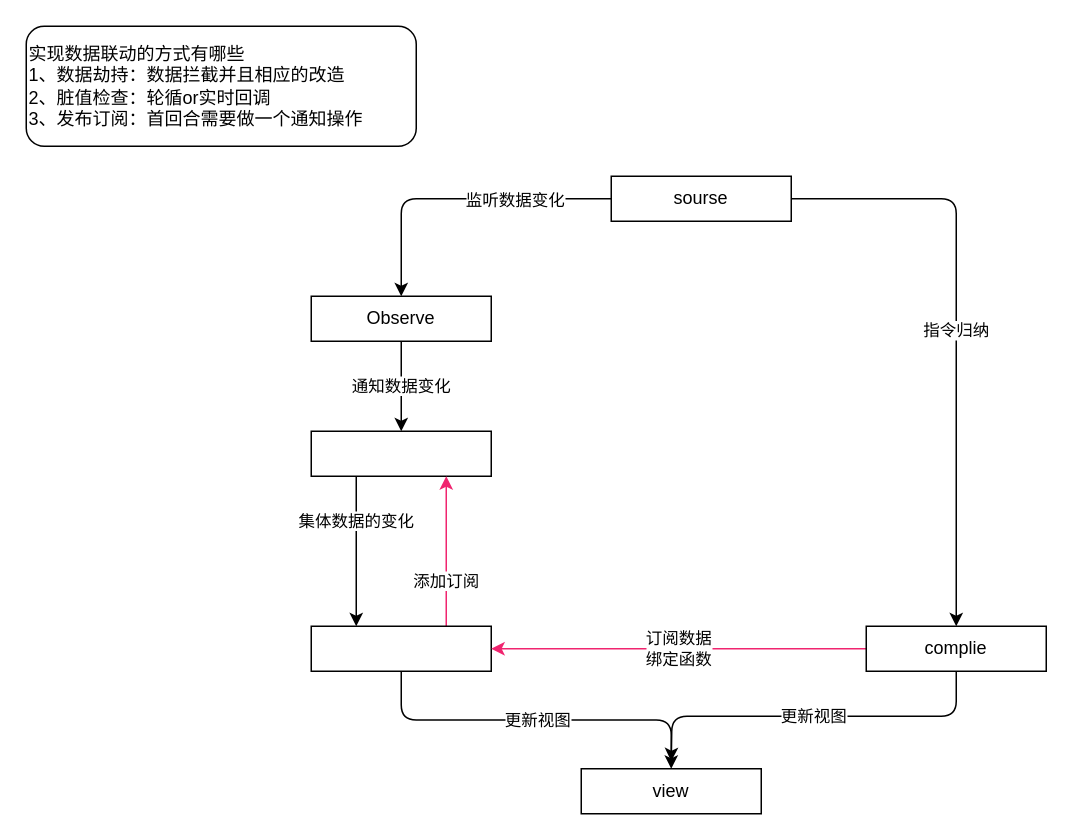
Some shapes in this 1073 by 840 pixel diagram are drawn without their labels. The shapes that lost their labels are listed below. From the top down, each one's box as (x1, y1, x2, y2) in pixels, then its label:
(310, 430, 491, 476): Dep
(310, 625, 491, 671): watcher
